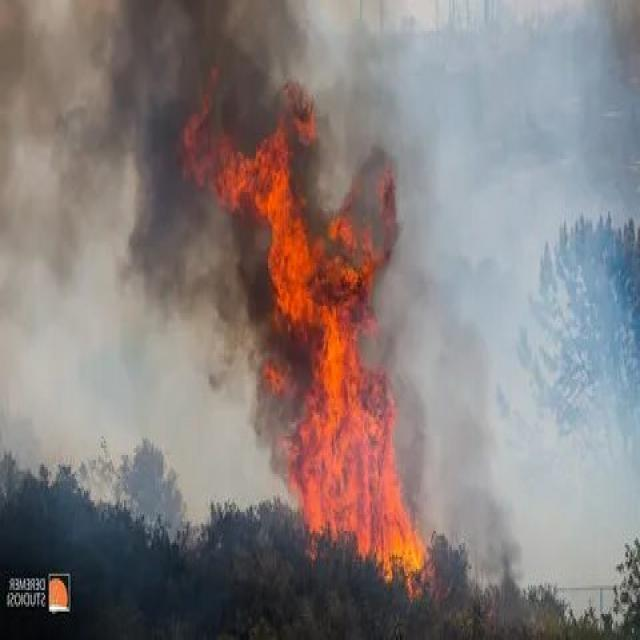Fire: (226, 112, 419, 589)
Smoke: (3, 4, 198, 452)
